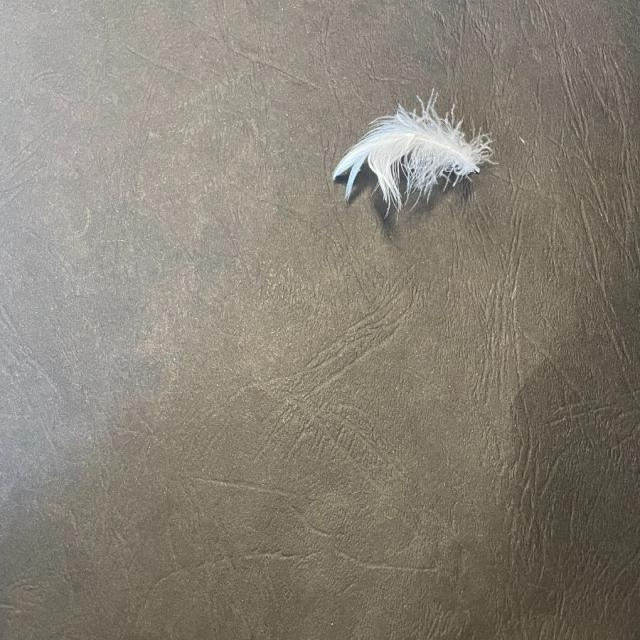feather: (330, 86, 498, 221)
